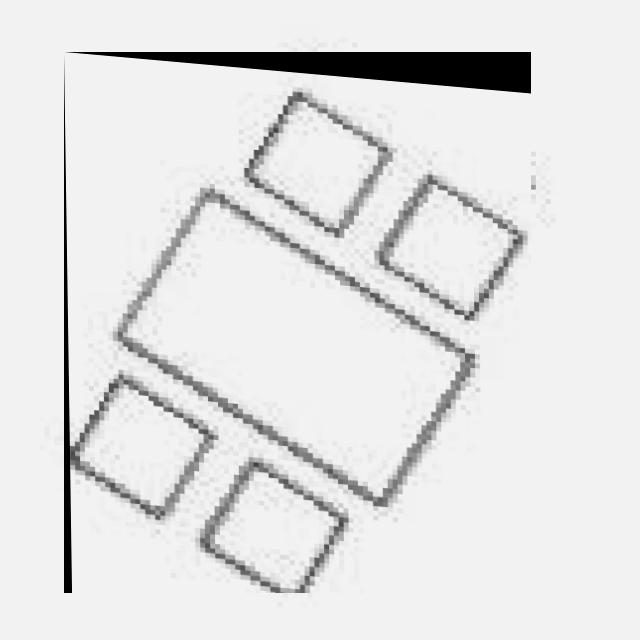table: (64, 52, 531, 593)
